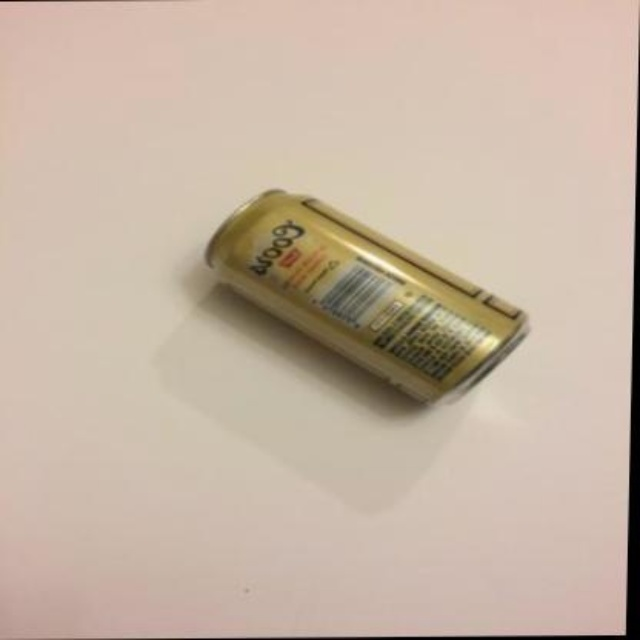trash: (205, 189, 528, 402)
